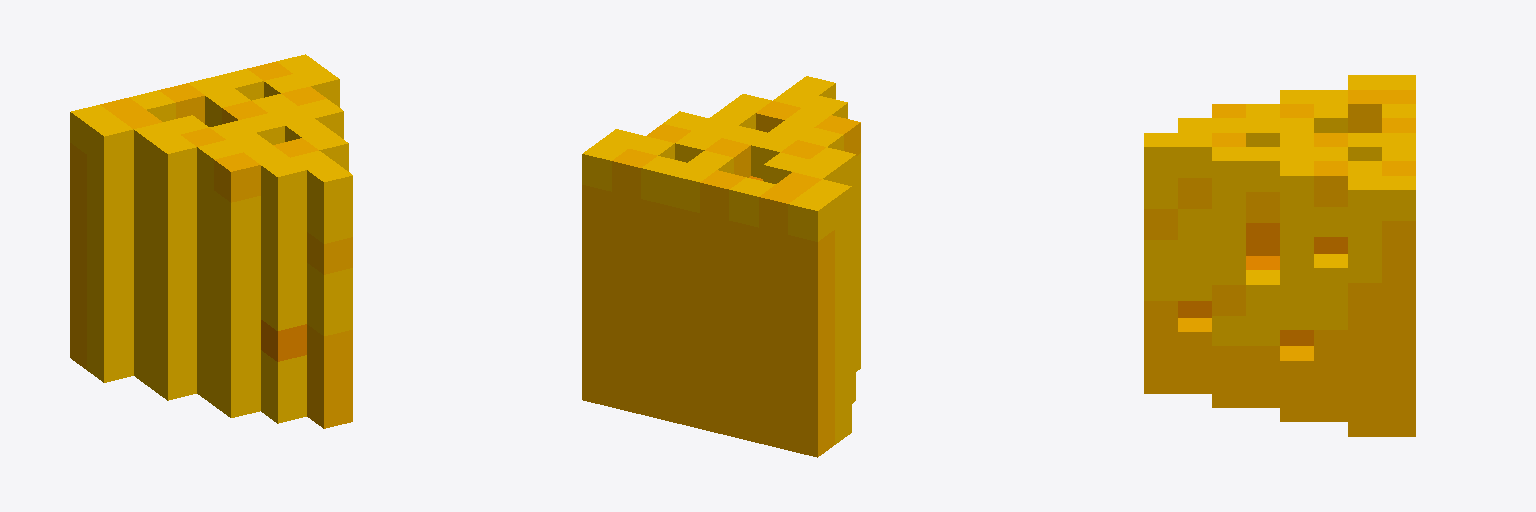
3 views of the same model, side by side, from view 1: azimuth 30°, elevation 25°; view 2: azimuth 150°, elevation 25°; view 3: azimuth 270°, elevation 25° (orthographic).
Parts seen in each view (by area): view 1: object 1; view 2: object 1; view 3: object 1.
Boxes of the visible parts, <box> form: object 1: <box>70,54,352,428</box>; object 1: <box>582,76,860,457</box>; object 1: <box>1144,75,1415,436</box>.
Bounding box in the file's own units: 0.8 × 0.8 × 0.8.
1 materials, 1 textured.